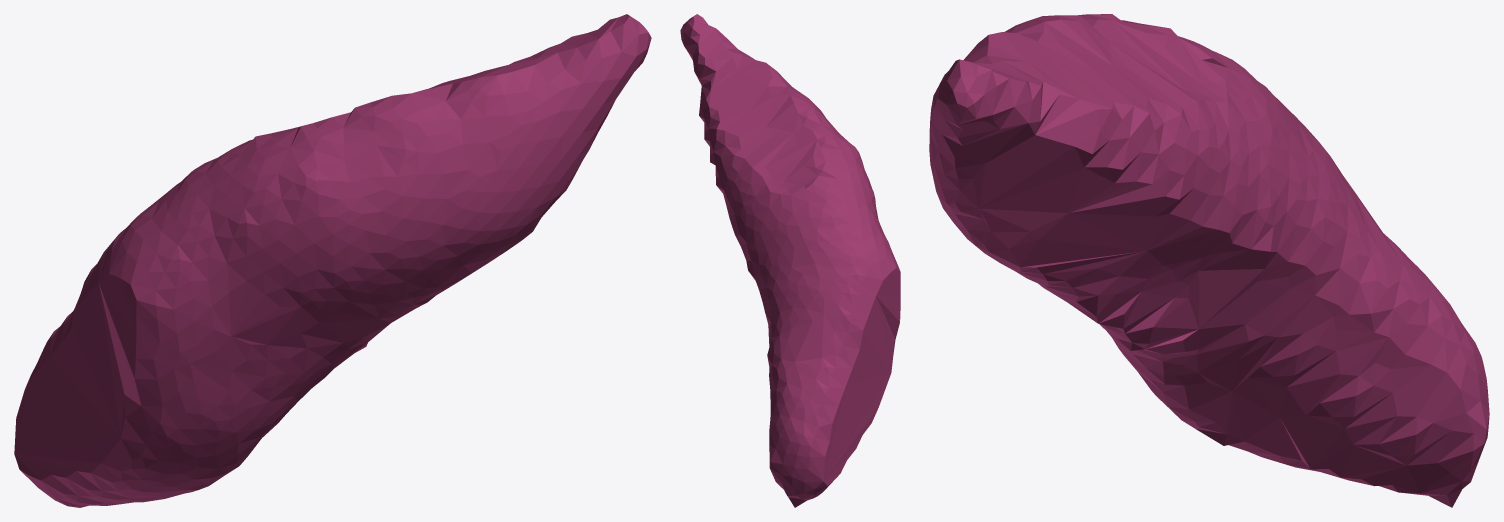
File: Model_557_RH__Gracile_nucleus_(Gr).obj
3 views of the same model, side by side, from view 1: azimuth 30°, elevation 25°; view 2: azimuth 150°, elevation 25°; view 3: azimuth 270°, elevation 25° (orthographic). The views are drawn at different scales.
Bounding box in the file's own units: 2.04 × 2.48 × 1.9.
